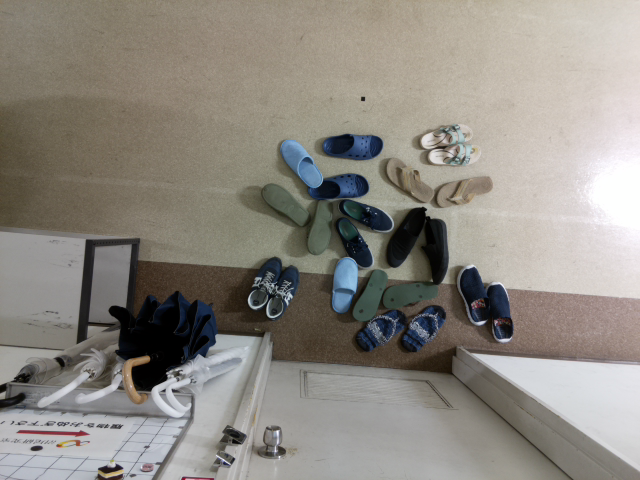Copy of Copy of Copy of Copy of Copy of Copy of Copy of Copy of Copy of Copy of: (393, 297, 452, 360), (349, 304, 413, 359), (382, 201, 430, 274), (415, 209, 458, 284), (454, 259, 497, 334), (481, 274, 524, 349), (325, 251, 364, 324), (330, 195, 399, 235), (332, 209, 377, 269), (377, 279, 443, 318), (302, 191, 337, 260), (353, 262, 389, 328)
Copy of Copy of Copy of Copy of Copy of Copy of Copy of Copy of Copy of shoe: (302, 169, 378, 204)
Copy of Copy of Copy of Copy of Copy of Copy of Copy of Copy of shoe: (379, 155, 438, 206)
Copy of Copy of Copy of Copy of Copy of Copy of Copy of shoe: (430, 173, 504, 212)
Copy of Copy of Copy of Copy of Copy of Copy of shoe: (423, 139, 499, 174)
Copy of Copy of Copy of Copy of Copy of shoe: (410, 114, 486, 149)
Copy of Copy of Copy of Copy of Copy of umbrella: (1, 328, 114, 411)
Copy of Copy of Copy of Copy of shoe: (314, 126, 390, 162)
Copy of Copy of Copy of Copy of umbrella: (30, 334, 132, 414)
Copy of Copy of Copy of shoe: (255, 174, 315, 230)
Copy of Copy of Copy of umbrella: (68, 360, 133, 409)
Copy of Copy of shoe: (273, 133, 327, 192)
Copy of Copy of umbrella: (108, 293, 221, 408)
Copy of shoe: (258, 261, 301, 328)
Copy of umbrella: (163, 348, 256, 420)
shoe: (242, 251, 284, 318)
umbrella: (151, 336, 256, 421)
